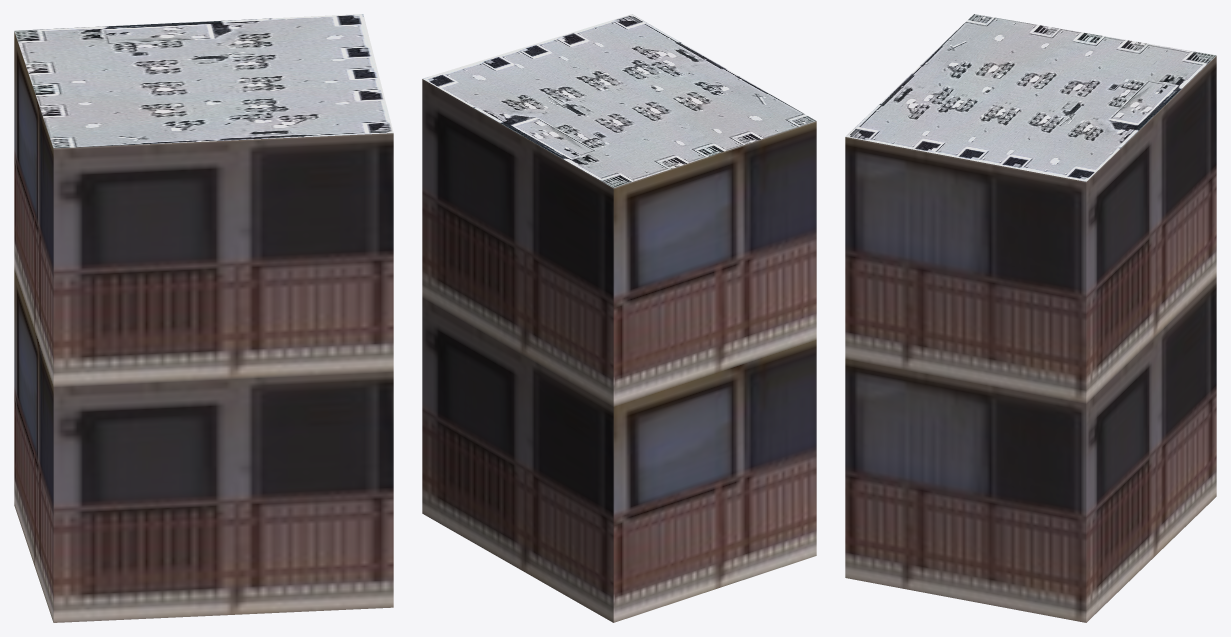
The model's file is ResTex__3256.fbx.
The picture shows the model from 3 angles, left to right: view 1: azimuth 30°, elevation 25°; view 2: azimuth 150°, elevation 25°; view 3: azimuth 270°, elevation 25°; orthographic projection. The views are drawn at different scales.
Visible parts, largest first — view 1: CityEngineMaterial_6_m, CityEngineMaterial_2_m; view 2: CityEngineMaterial_6_m, CityEngineMaterial_2_m; view 3: CityEngineMaterial_6_m, CityEngineMaterial_2_m.
Boxes of the visible parts, x1,y1,x2,y2 form: CityEngineMaterial_6_m: (14, 31, 393, 622); CityEngineMaterial_2_m: (14, 14, 393, 148); CityEngineMaterial_6_m: (422, 79, 816, 622); CityEngineMaterial_2_m: (422, 14, 815, 187); CityEngineMaterial_6_m: (845, 56, 1216, 622); CityEngineMaterial_2_m: (845, 14, 1216, 181).
Bounding box in the file's own units: 4.9 × 6 × 4.58.
Materials: 2 (2 with a texture image).
